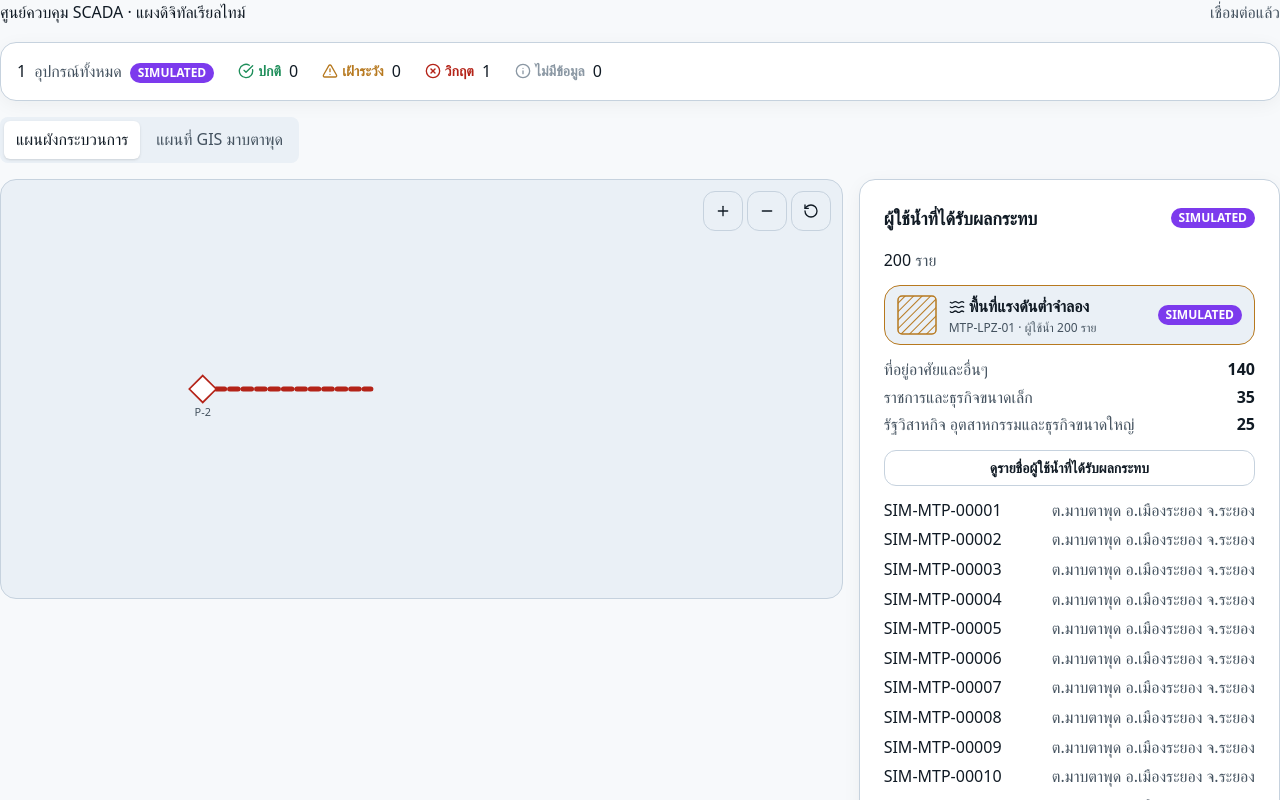
PR-J — clickable low-pressure impact (R14/R19/R20) › T7e: the whole journey happens on one mounted screen (no reload)
Expected: the icon with test id "twin-schematic" is shown, [0, 179, 843, 599]
Click the button with test id "low-pressure-area" at (1069, 315), box [884, 285, 1255, 345]
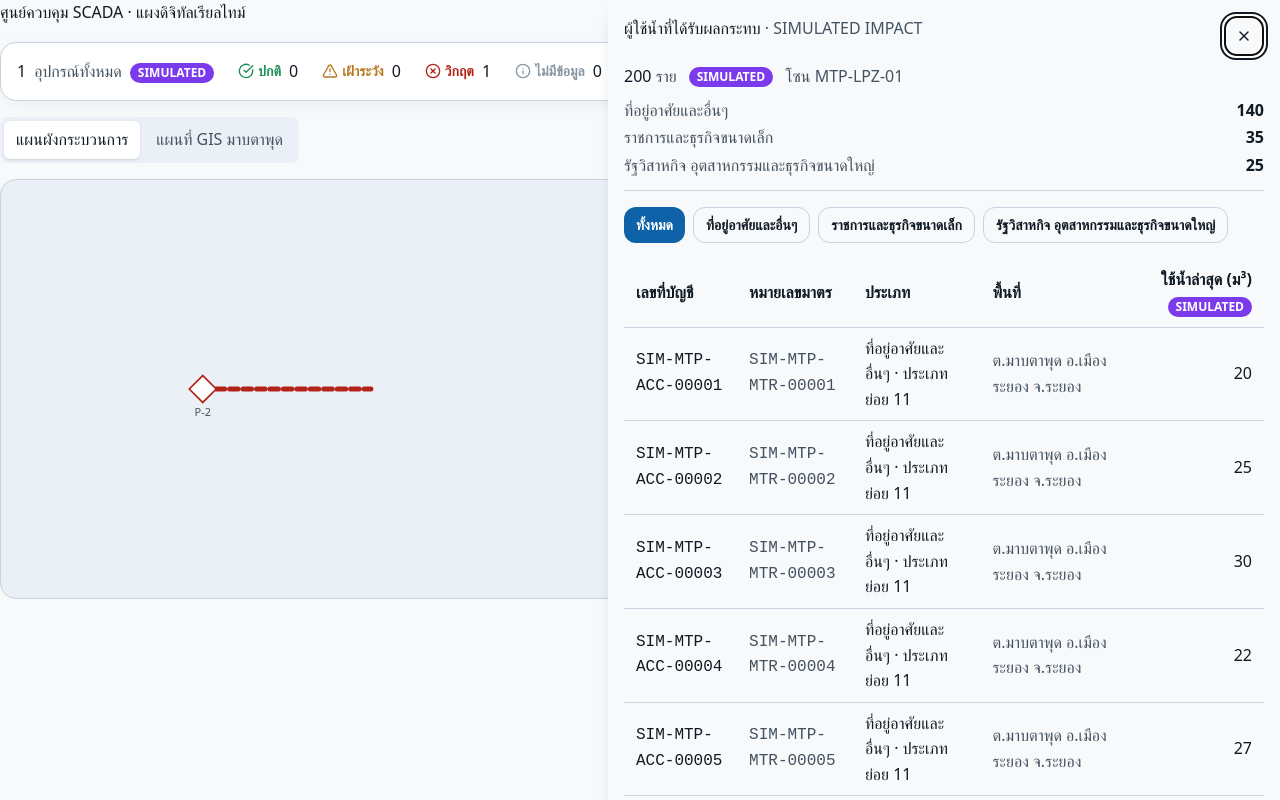
Expected: the icon with test id "twin-schematic" is shown, [0, 179, 843, 599]
Expected: the element with test id "impact-drawer" is shown
